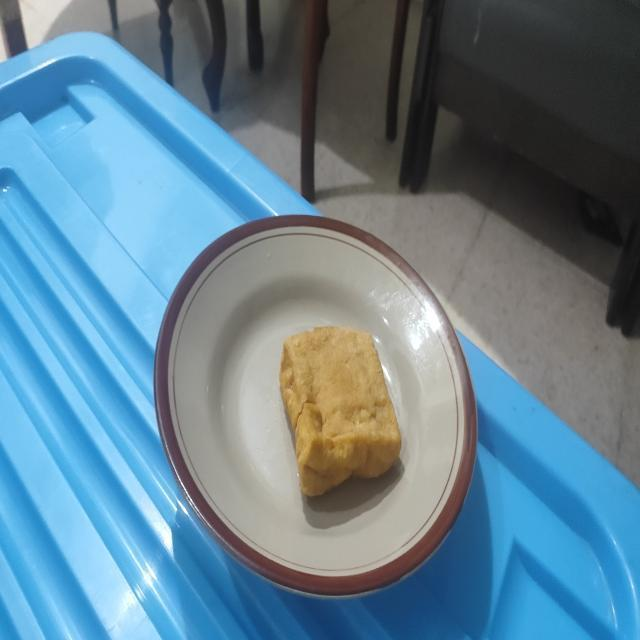tahu_goreng: (279, 326, 401, 496)
